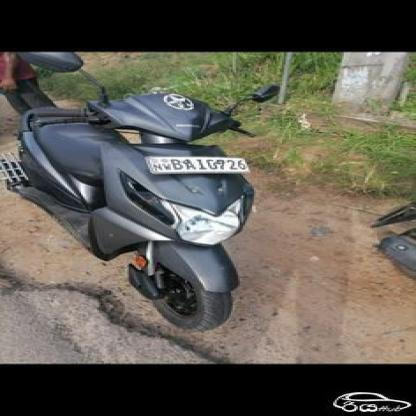bike front: (7, 54, 282, 346)
number plate: (138, 156, 250, 173)
